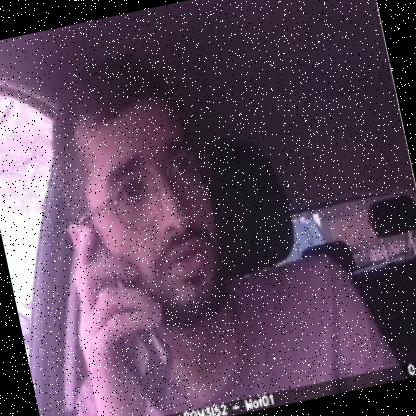phone: (66, 218, 187, 415)
